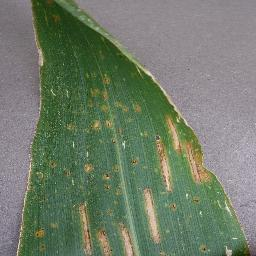Gray_Leaf_Spot: (11, 144, 47, 256), (161, 117, 217, 182), (77, 199, 136, 256), (27, 0, 49, 99), (142, 182, 167, 246), (85, 88, 114, 118), (221, 187, 241, 220), (102, 163, 121, 196), (88, 117, 115, 133), (221, 245, 254, 256), (165, 99, 185, 117), (141, 59, 158, 80), (154, 80, 171, 99), (152, 131, 161, 163), (118, 102, 144, 113), (48, 156, 60, 172), (99, 70, 110, 87), (64, 122, 81, 133), (82, 159, 95, 172), (61, 165, 73, 179), (117, 127, 124, 143), (168, 201, 178, 212), (198, 243, 207, 255), (190, 195, 201, 204), (132, 158, 140, 165), (109, 140, 114, 143)
